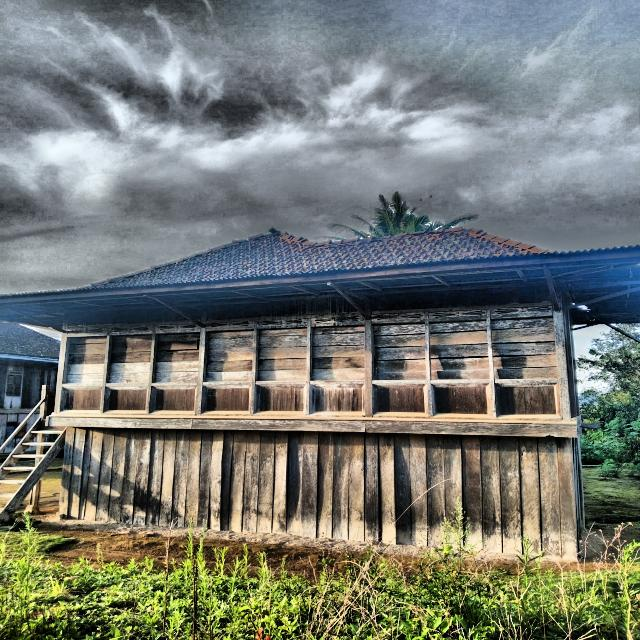ornamen: (494, 382, 562, 418), (431, 383, 492, 418), (372, 384, 429, 417), (309, 384, 365, 415), (253, 384, 307, 415), (201, 385, 252, 415), (149, 386, 197, 414), (103, 386, 149, 413), (60, 386, 102, 413)
roof: (0, 228, 640, 330), (1, 323, 62, 361)
stair: (0, 385, 67, 523)
wall: (59, 428, 577, 562), (373, 287, 563, 420), (201, 298, 365, 418), (59, 308, 201, 416)
window: (491, 318, 559, 379), (429, 321, 490, 380), (372, 323, 426, 380), (312, 327, 365, 380), (257, 328, 307, 381), (206, 331, 253, 382), (154, 332, 200, 382), (63, 336, 107, 384), (108, 335, 152, 383), (4, 366, 23, 409)
